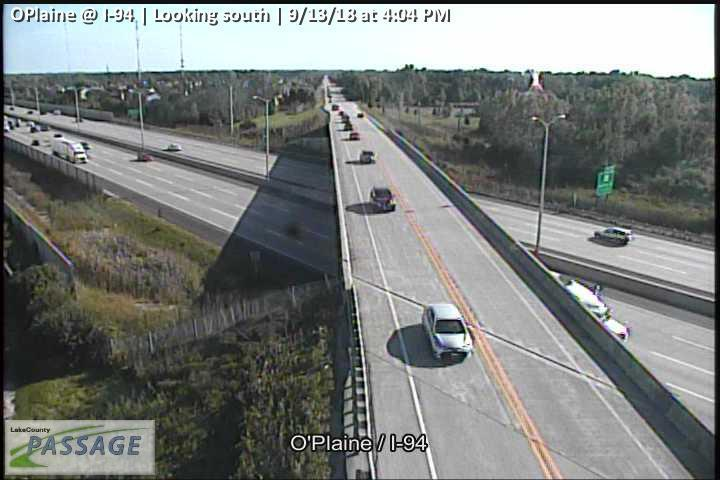SUV: (421, 301, 472, 363), (594, 226, 632, 244)
Sedan: (370, 186, 396, 212)
Truck: (51, 137, 87, 165)
